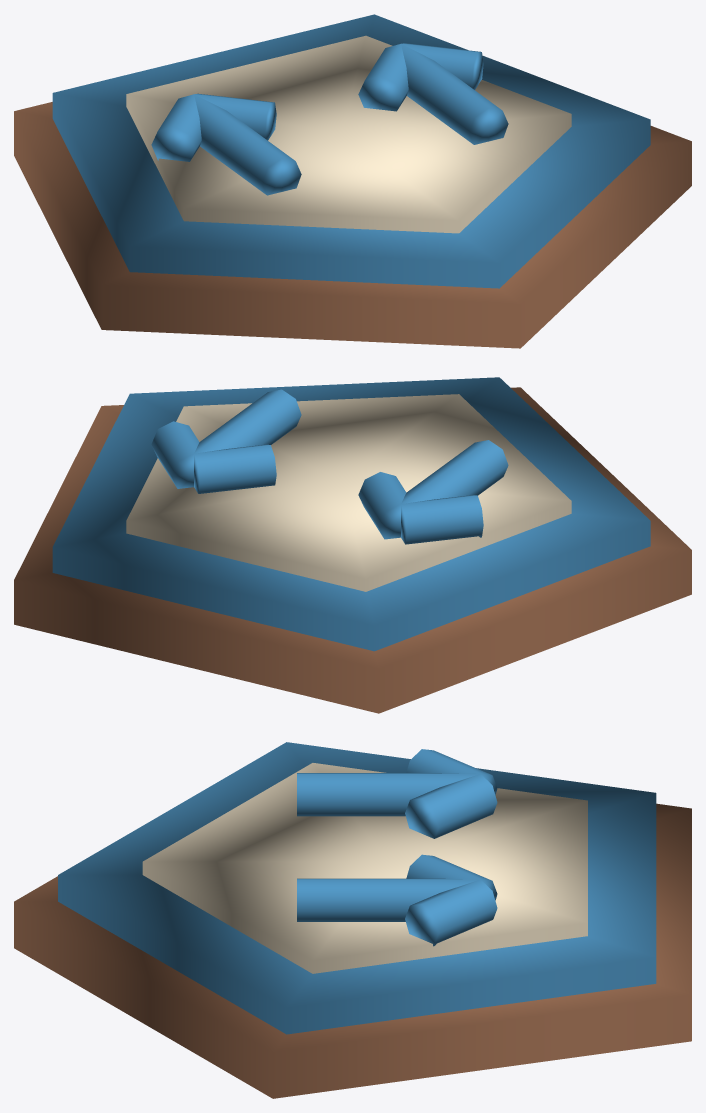
File: pad_output.glb
The picture shows the model from 3 angles, top to bottom: view 1: azimuth 30°, elevation 25°; view 2: azimuth 150°, elevation 25°; view 3: azimuth 270°, elevation 25°; orthographic projection. The views are drawn at different scales.
Parts seen in each view (by area): view 1: pad_output; view 2: pad_output; view 3: pad_output.
Boxes of the visible parts, x1,y1,x2,y2 form: pad_output: (14,14,691,348); pad_output: (14,377,691,713); pad_output: (14,742,691,1098).
Size of the model in its own units: 1.94 by 0.365 by 1.85.
